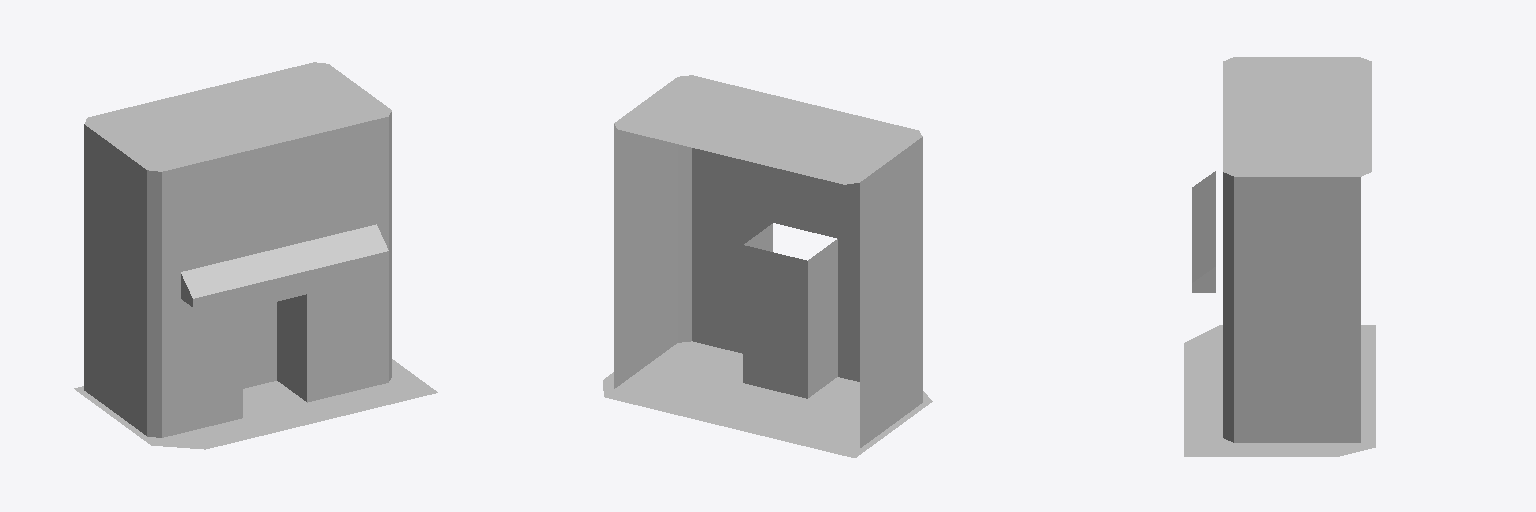
File: Rad Rickshaw's Cycle Shop.obj
The picture shows the model from 3 angles: view 1: azimuth 30°, elevation 25°; view 2: azimuth 150°, elevation 25°; view 3: azimuth 270°, elevation 25°; orthographic projection.
Visible parts, largest first — view 1: polygon3, polygon2, polygon0, polygon1; view 2: polygon3, polygon1, polygon2, polygon0; view 3: polygon3, polygon1, polygon2.
Part boxes in pixels (left/top/right/bottom): polygon3: left=84, top=62, right=391, bottom=437; polygon2: left=181, top=224, right=388, bottom=412; polygon0: left=186, top=281, right=363, bottom=412; polygon1: left=74, top=359, right=437, bottom=449; polygon3: left=614, top=75, right=922, bottom=447; polygon1: left=603, top=341, right=932, bottom=457; polygon2: left=743, top=227, right=831, bottom=398; polygon0: left=717, top=223, right=859, bottom=362; polygon3: left=1223, top=57, right=1371, bottom=442; polygon1: left=1184, top=325, right=1375, bottom=456; polygon2: left=1192, top=171, right=1215, bottom=292.
Size of the model in its own units: 88 by 84 by 54.